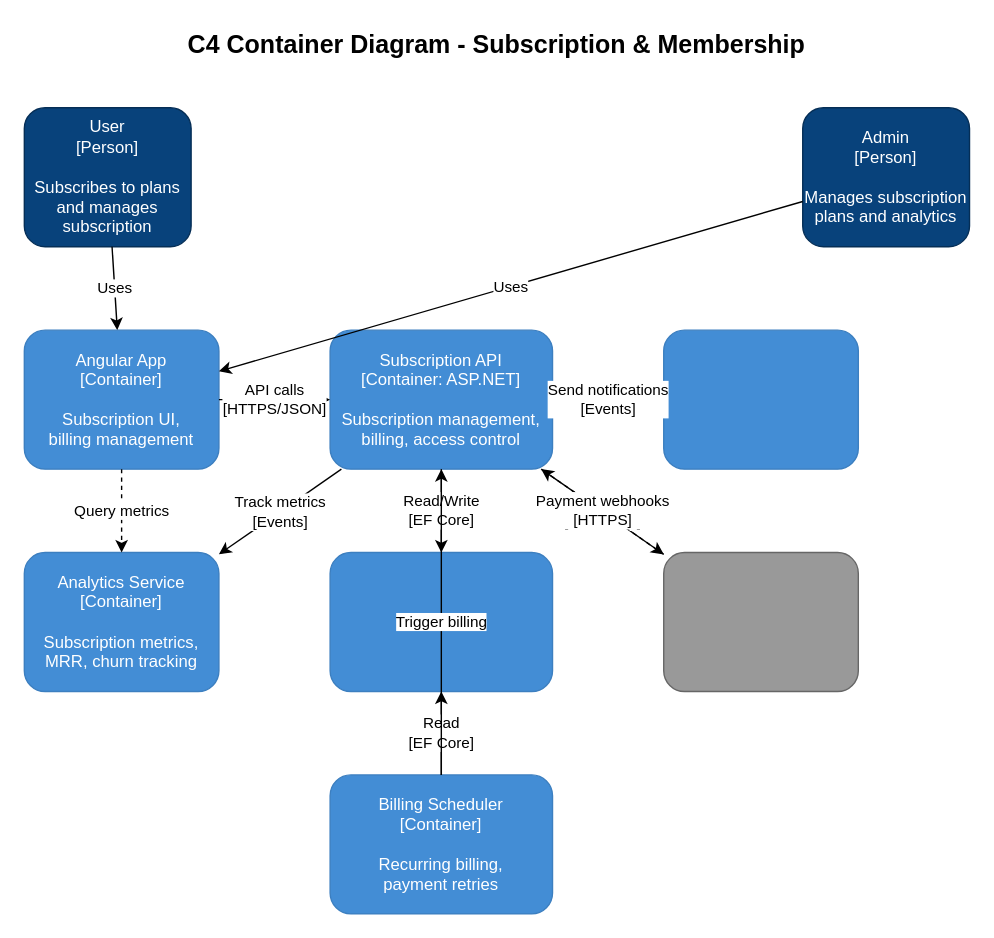
The diagram is 994 pixels wide and 938 high, and some of its shapes have lost their labels. The box of each missing label's shape, as (x1, y1, x2, y2) in pixels:
Database [Container: SQL Server] Subscriptions, plans, billing transactions: (329, 551, 553, 692)
Notification Service [Container] Renewal reminders, payment notifications: (662, 329, 858, 469)
Payment Gateway [External: Stripe] Payment processing, recurring billing: (662, 551, 858, 692)
